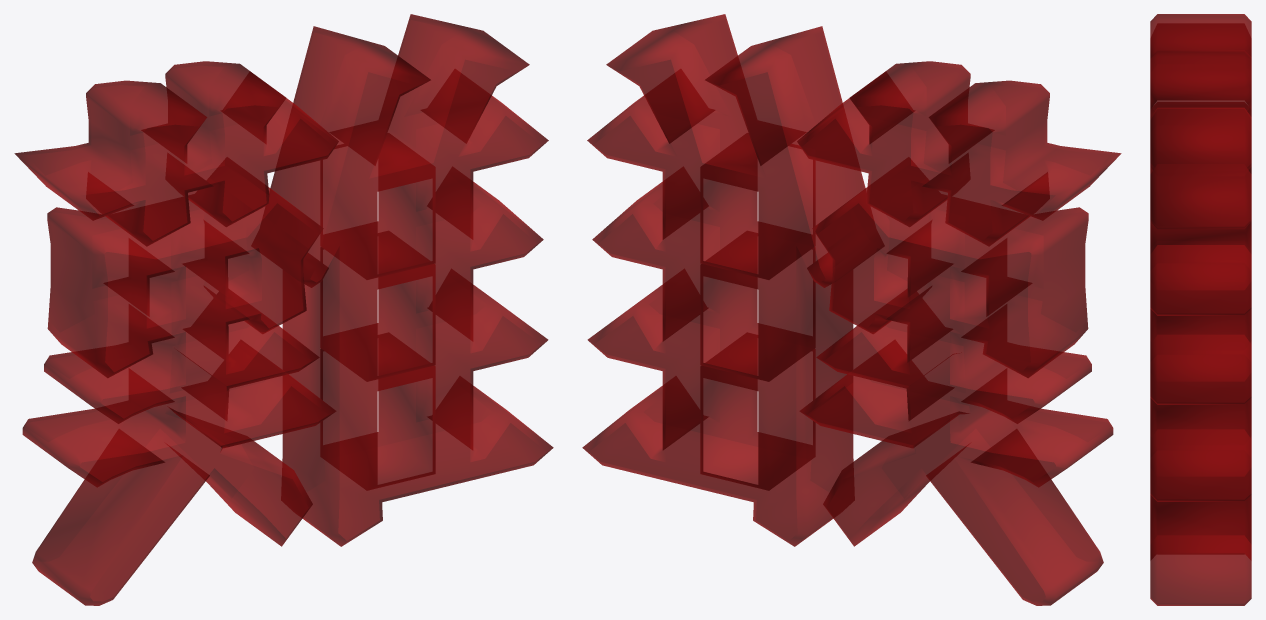
The model's file is quest02.glb.
The picture shows the model from 3 angles, left to right: view 1: azimuth 30°, elevation 25°; view 2: azimuth 150°, elevation 25°; view 3: azimuth 270°, elevation 25°; orthographic projection. The views are drawn at different scales.
Parts seen in each view (by area): view 1: Text.002; view 2: Text.002; view 3: Text.002.
Boxes of the visible parts, bbox=[...] form: Text.002: bbox=[14, 14, 553, 605]; Text.002: bbox=[582, 14, 1121, 605]; Text.002: bbox=[1150, 14, 1251, 605].
Size of the model in its own units: 0.733 by 0.685 by 0.14.
